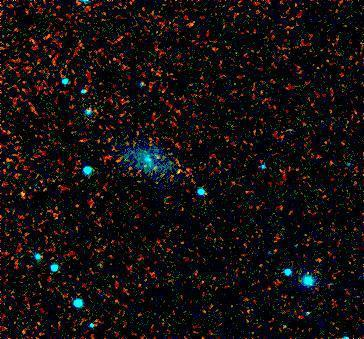star: (176, 12, 206, 42)
